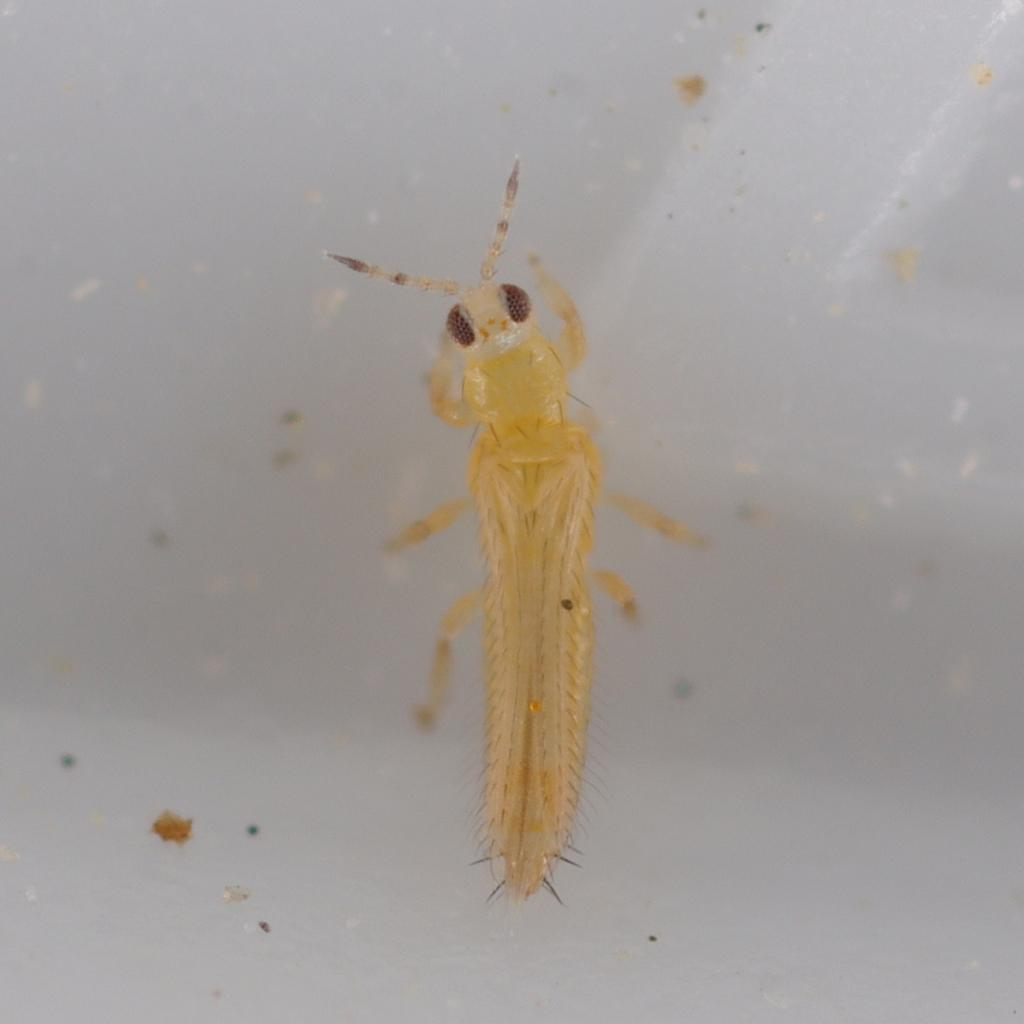tiny_pests: (267, 113, 760, 963)
